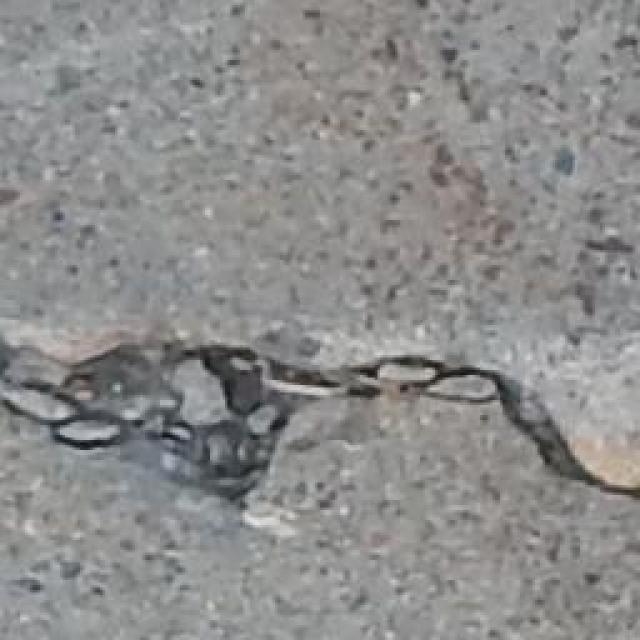concrete-crack: (0, 338, 640, 510)
